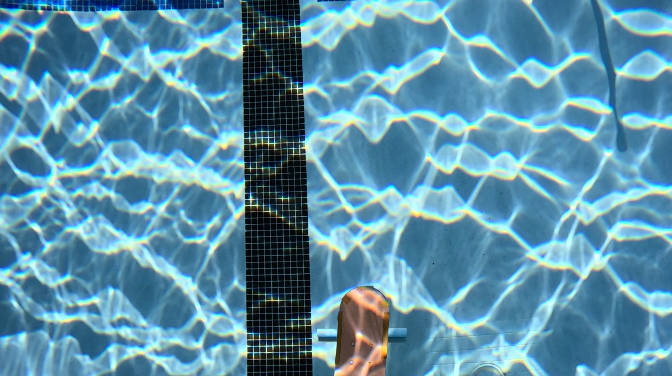pathmarker: (335, 286, 389, 375)
